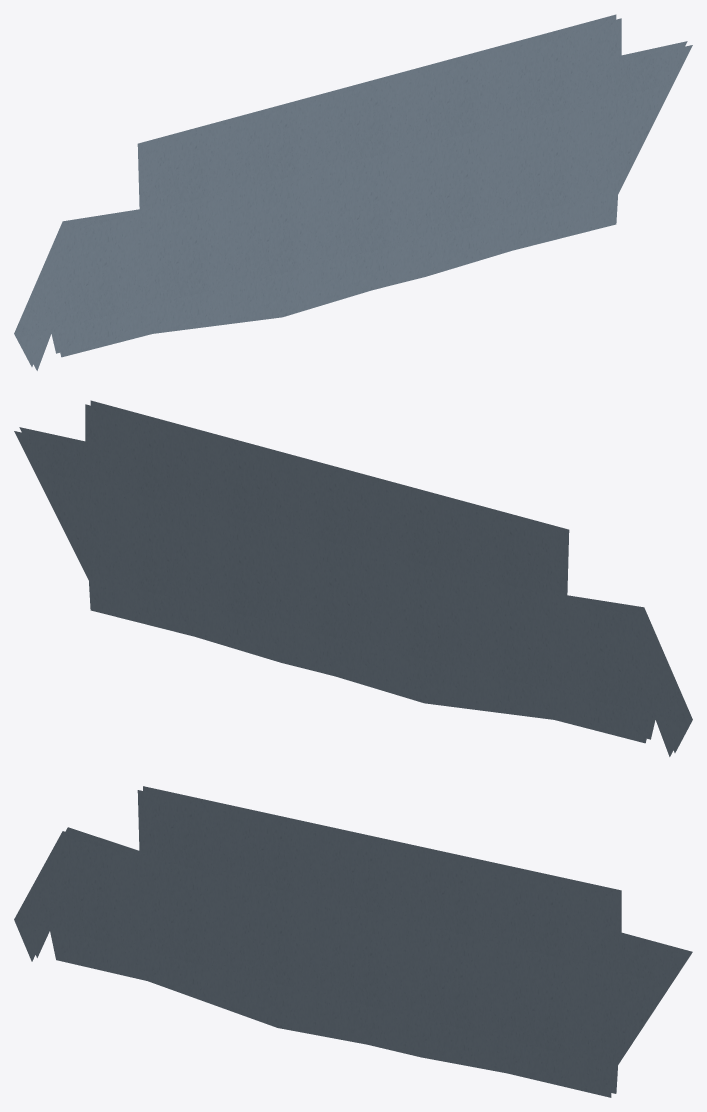
The model's file is floor_17.obj.
3 renders of one model, top to bottom at view 1: azimuth 30°, elevation 25°; view 2: azimuth 150°, elevation 25°; view 3: azimuth 330°, elevation 25°, orthographic.
Visible parts, largest first — view 1: floor_17; view 2: floor_17; view 3: floor_17.
Boxes of the visible parts, <box> form: floor_17: <box>14,14,692,370</box>; floor_17: <box>14,400,692,756</box>; floor_17: <box>14,786,692,1097</box>.
Bounding box in the file's own units: 7.46 × 2.29 × 0.1.
Materials: 1 (1 with a texture image).
